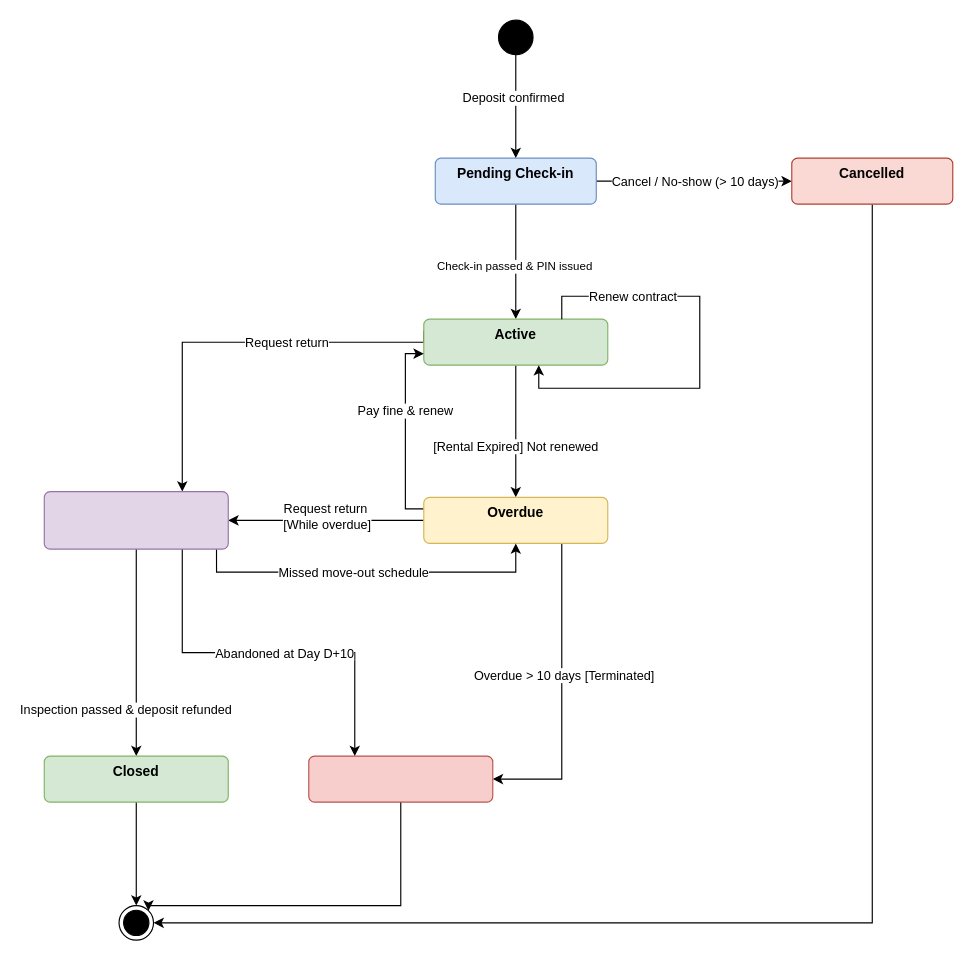
The diagram is 973 pixels wide and 960 high, and some of its shapes have lost their labels. Here are the shapes that lost their labels. From the top down, the centre of each, then its label:
At [135,519]: "Returning".
At [400,778]: "Terminated".
